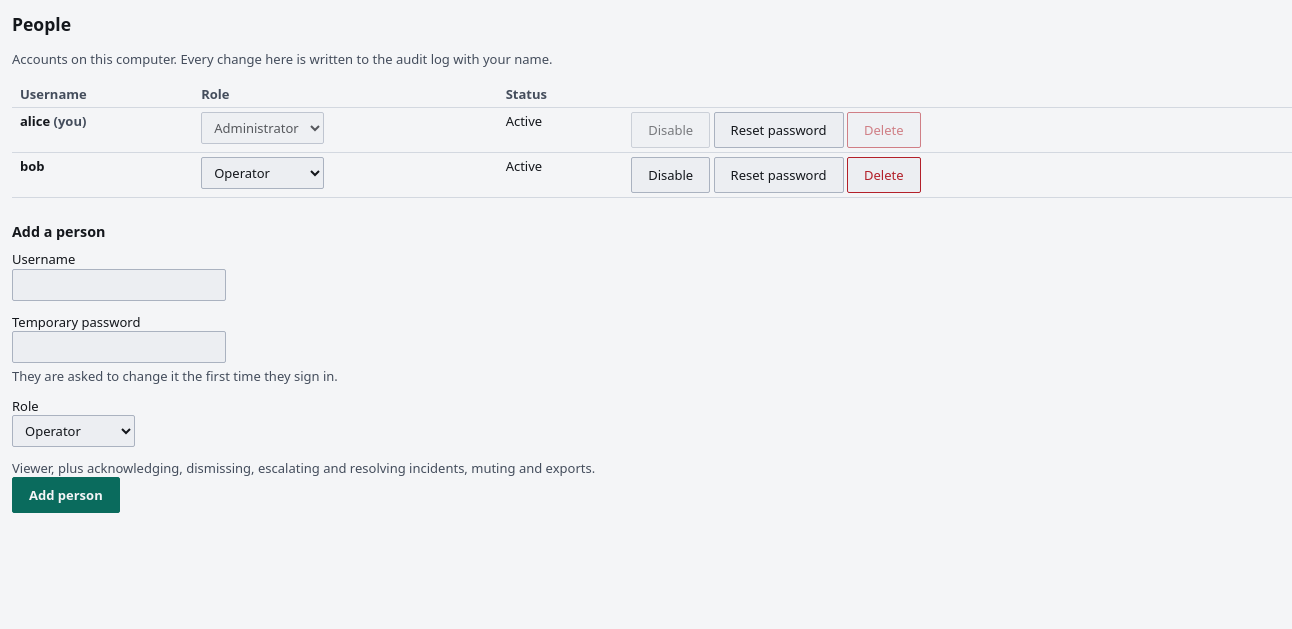
Scenario: people › changes a role and shows the engine's refusal if it refuses
Select "Viewer" in the dropdown named "Role for bob". click: (263, 173)
box: 201,157 -> 324,189
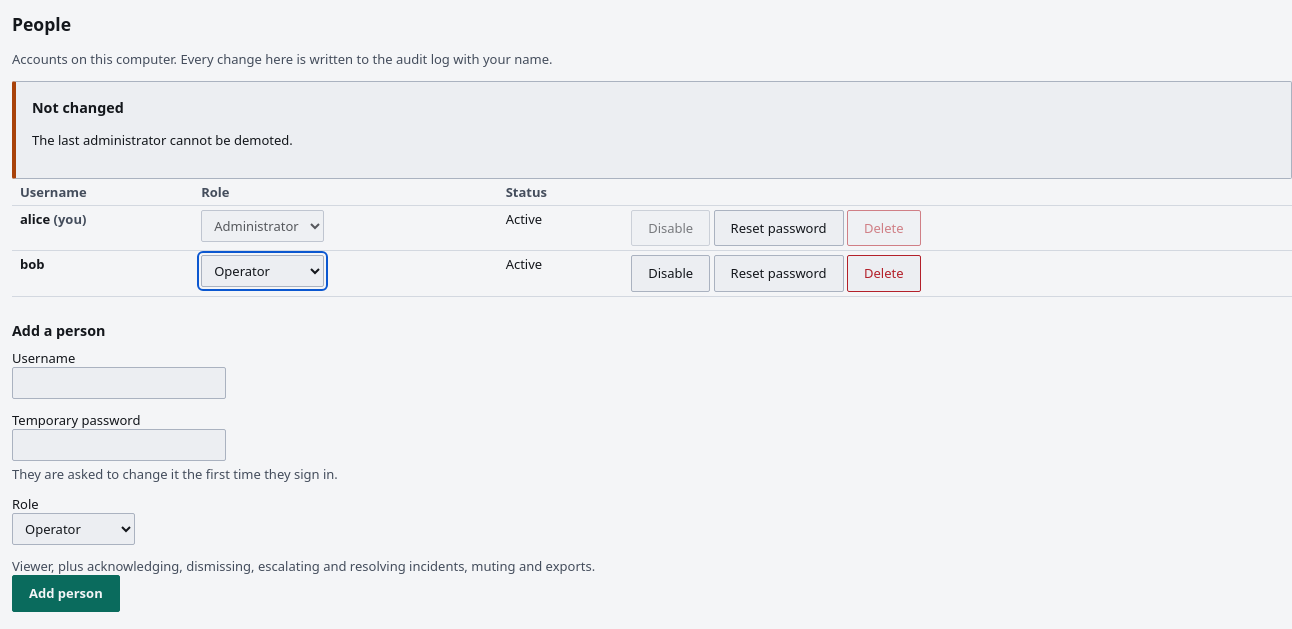
Expected: the text "The last administrator cannot be demoted." is shown, 32,131 -> 293,149
